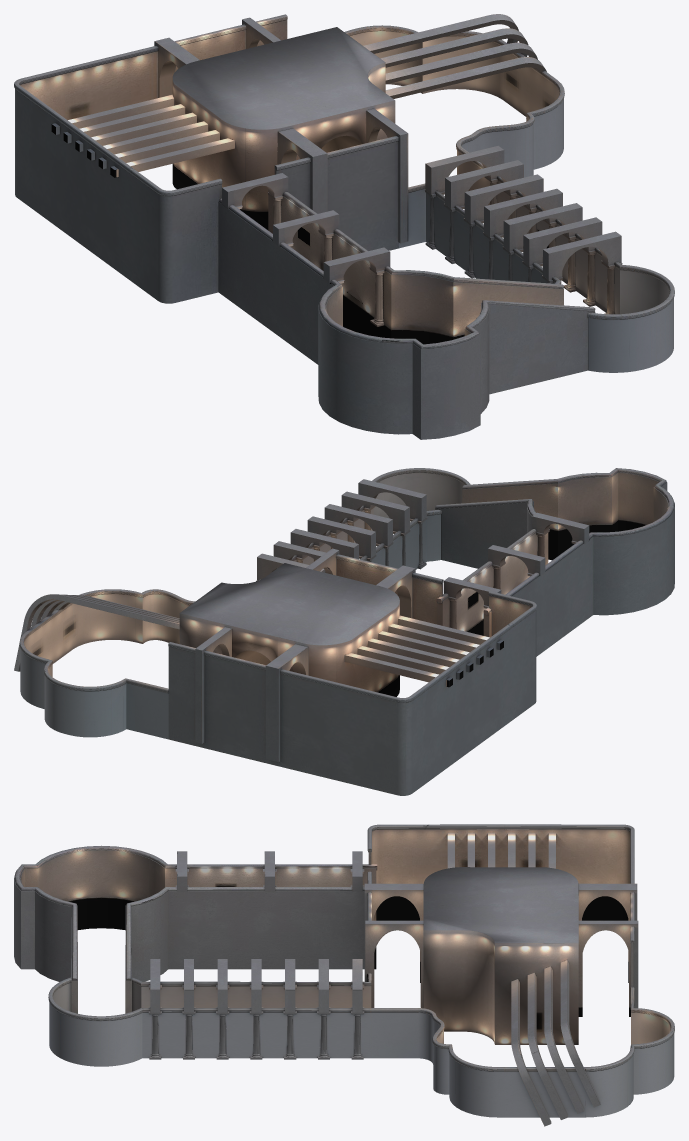
File: Museum_Walls.glb
3 renders of one model, top to bottom at view 1: azimuth 30°, elevation 25°; view 2: azimuth 150°, elevation 25°; view 3: azimuth 270°, elevation 25°, orthographic. The views are drawn at different scales.
Visible parts, largest first — view 1: Entrance Fixed Wall, Second Floor.001, Main Column, First Floor.001, Arch, Cube.001, Plane, Entrance Fixed Wall.001, Second Floor.002, First Floor.002, Arch.007, Arch.003 (+6 smaller); view 2: Second Floor.001, Entrance Fixed Wall, First Floor.001, Main Column, Arch, Cube.001, Entrance Fixed Wall.001, Second Floor.002, First Floor.002, Arch.007, Plane, Arch.005 (+4 smaller); view 3: Entrance Fixed Wall, First Floor.001, Main Column, Second Floor.001, Plane, First Floor.002, Arch, Entrance Fixed Wall.001, Columns 2, Second Floor.002, Arch.004, Arch.002 (+4 smaller).
Boxes of the visible parts, x1,y1,x2,y2 form: Entrance Fixed Wall: (218,190,595,439); Second Floor.001: (15,20,398,303); Main Column: (172,27,395,230); First Floor.001: (350,31,673,372); Arch: (425,145,621,280); Cube.001: (51,94,234,177); Plane: (363,14,546,98); Entrance Fixed Wall.001: (219,192,595,348); Second Floor.002: (14,14,398,196); First Floor.002: (344,25,674,319); Arch.007: (222,173,390,282); Arch.003: (278,128,327,213); Second Floor.001: (168,559,536,795); Entrance Fixed Wall: (435,472,674,656); First Floor.001: (20,472,463,739); Main Column: (179,563,399,696); Arch: (257,479,426,580); Cube.001: (344,615,503,687); Entrance Fixed Wall.001: (435,468,674,615); Second Floor.002: (168,554,536,702); First Floor.002: (19,468,470,693); Arch.007: (444,512,589,606); Plane: (14,594,179,671); Arch.005: (265,644,308,762); Entrance Fixed Wall: (14,850,376,1013); First Floor.001: (49,982,674,1117); Main Column: (423,867,578,1044); Second Floor.001: (368,829,633,987); Plane: (511,960,600,1126); First Floor.002: (48,973,674,1071); Arch: (150,959,362,1012); Entrance Fixed Wall.001: (14,845,377,980); Columns 2: (148,1007,364,1059); Second Floor.002: (367,824,634,943); Arch.004: (578,920,638,1016); Arch.002: (365,920,423,1008).
Size of the model in its own units: 70.49 by 17.73 by 98.2.
Materials: 20 (20 with a texture image).
